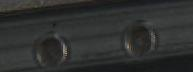joints: (121, 18, 157, 58), (32, 29, 69, 67)
